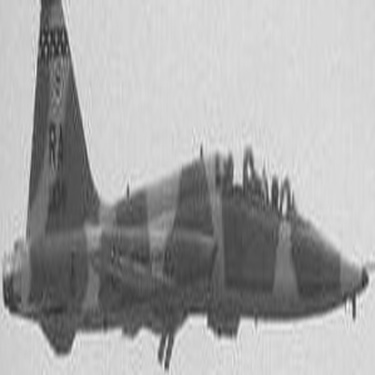airplane: (3, 7, 367, 367)
